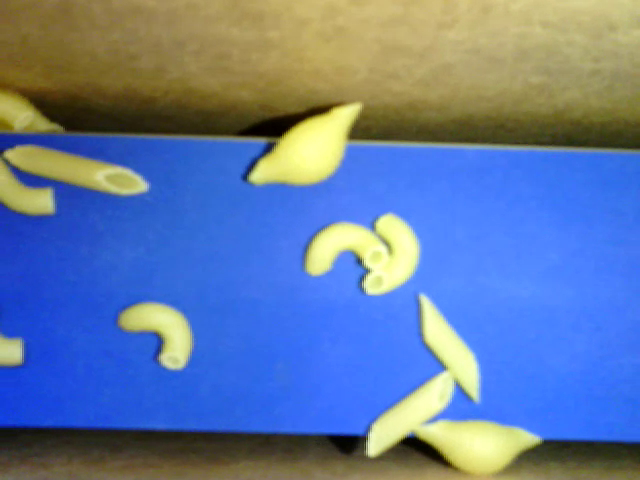elbow: (113, 301, 192, 374), (303, 217, 388, 276), (362, 209, 418, 294), (1, 155, 60, 218), (1, 326, 30, 369), (1, 94, 33, 130)
penne: (362, 364, 458, 456), (5, 142, 147, 194), (419, 294, 481, 403)
shell: (243, 98, 363, 188), (411, 419, 543, 477), (1, 88, 65, 132)
